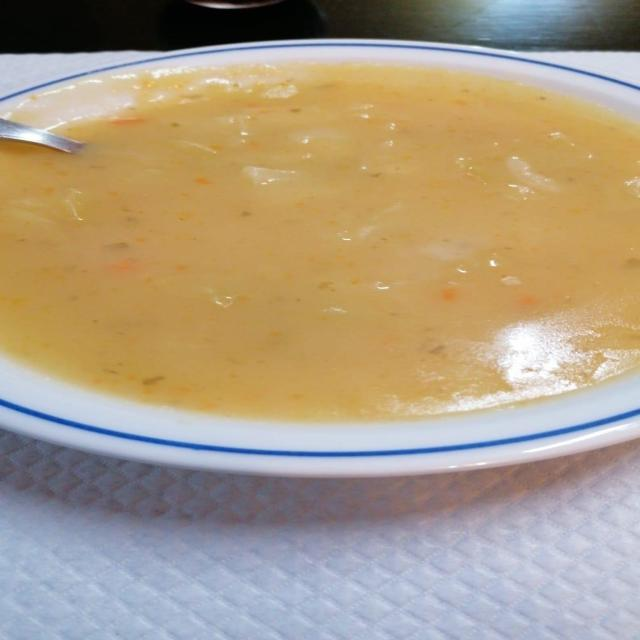soup: (0, 40, 639, 476)
spoon: (0, 118, 82, 153)
